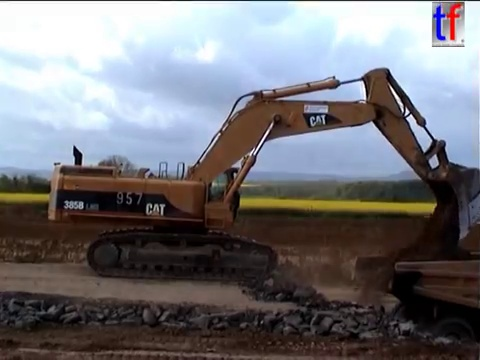excavator: (44, 65, 480, 285)
truck: (349, 250, 480, 360)
